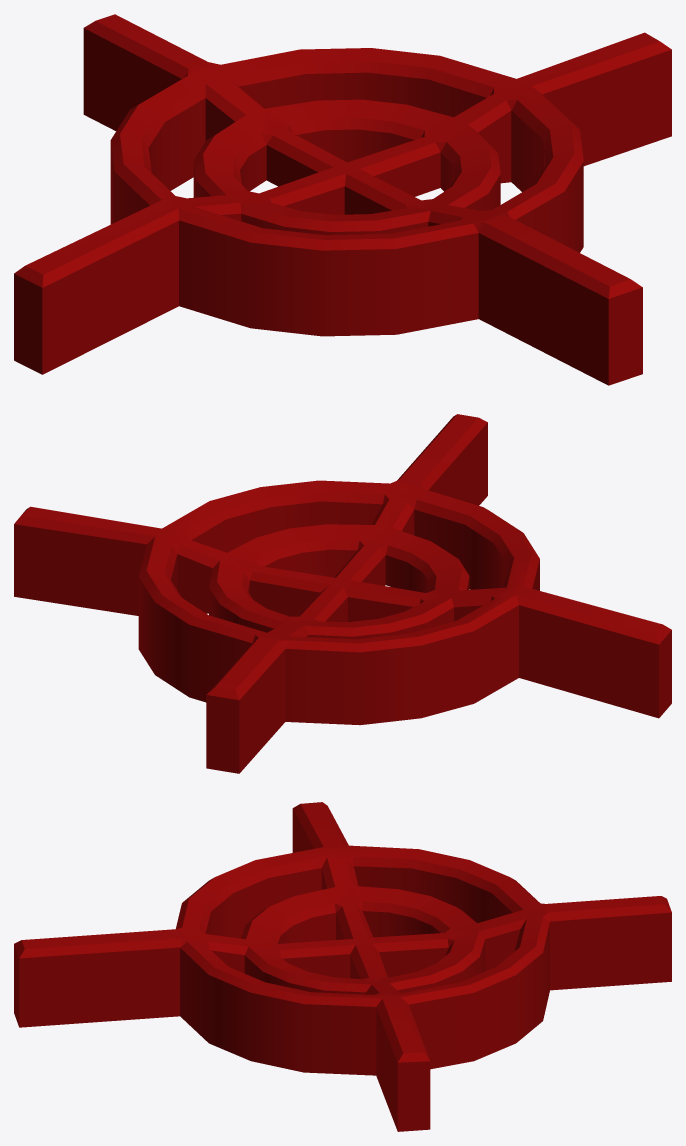
Rendered from target 2 fbx 1.fbx.
3 views of the same model, one above another, from view 1: azimuth 30°, elevation 25°; view 2: azimuth 150°, elevation 25°; view 3: azimuth 270°, elevation 25° (orthographic). The views are drawn at different scales.
Parts seen in each view (by area): view 1: pCylinder1; view 2: pCylinder1; view 3: pCylinder1.
Part boxes in pixels (box(x1,y1,x2,y2)): pCylinder1: box(14, 14, 671, 385); pCylinder1: box(14, 414, 671, 773); pCylinder1: box(14, 802, 671, 1131).
Bounding box in the file's own units: 3.41 × 0.5371 × 3.47.
